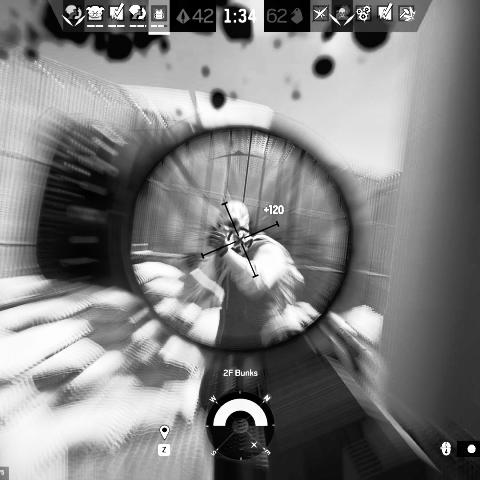Character: (178, 198, 301, 346)
Head: (216, 200, 253, 253)
